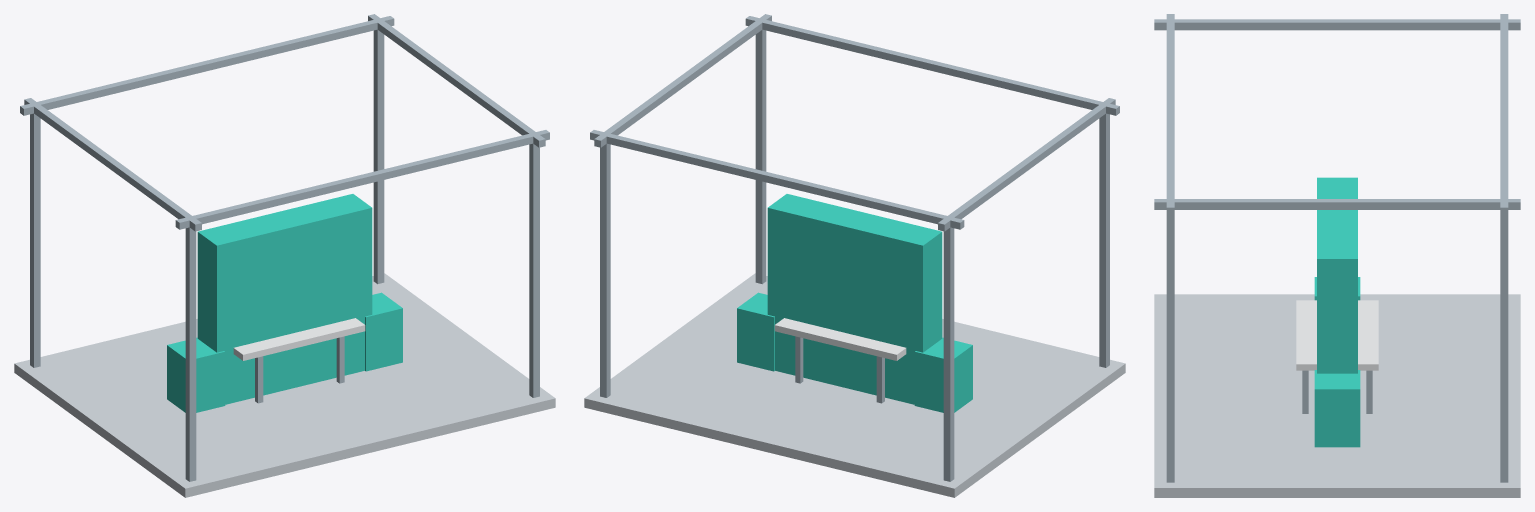
The picture shows the model from 3 angles, left to right: view 1: azimuth 30°, elevation 25°; view 2: azimuth 150°, elevation 25°; view 3: azimuth 270°, elevation 25°; orthographic projection. The views are drawn at different scales.
Visible parts, largest first — view 1: Exhibition Booth Concept; view 2: Exhibition Booth Concept; view 3: Exhibition Booth Concept.
Part boxes in pixels (<box>): Exhibition Booth Concept: <box>14,14,555,497</box>; Exhibition Booth Concept: <box>584,14,1125,497</box>; Exhibition Booth Concept: <box>1154,14,1520,497</box>.
Size of the model in its own units: 5 by 3.49 by 4.
